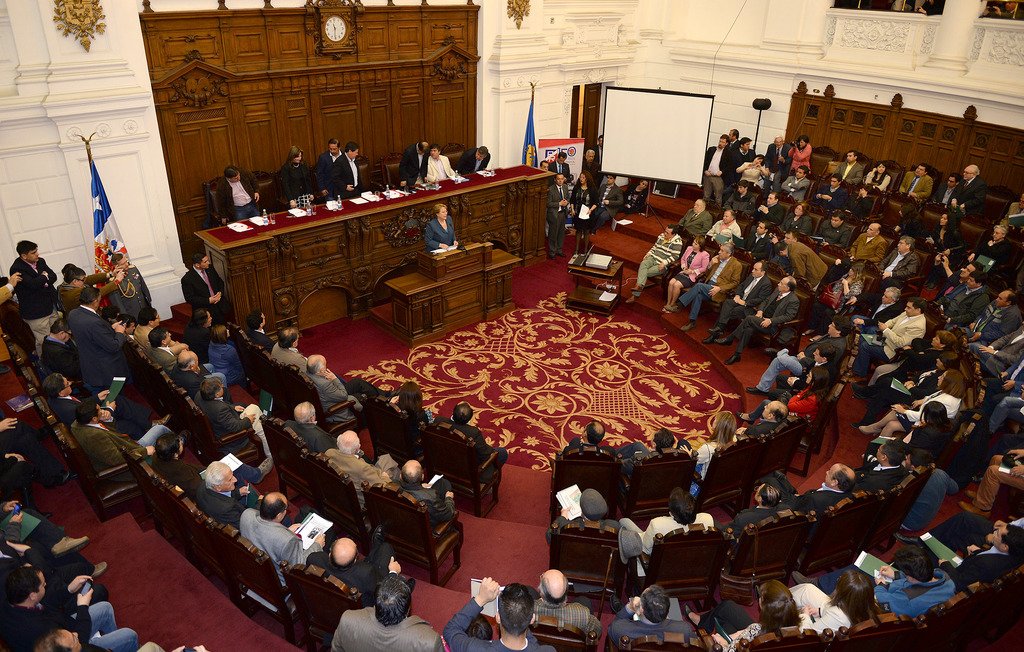Person: (0, 128, 1024, 651)
